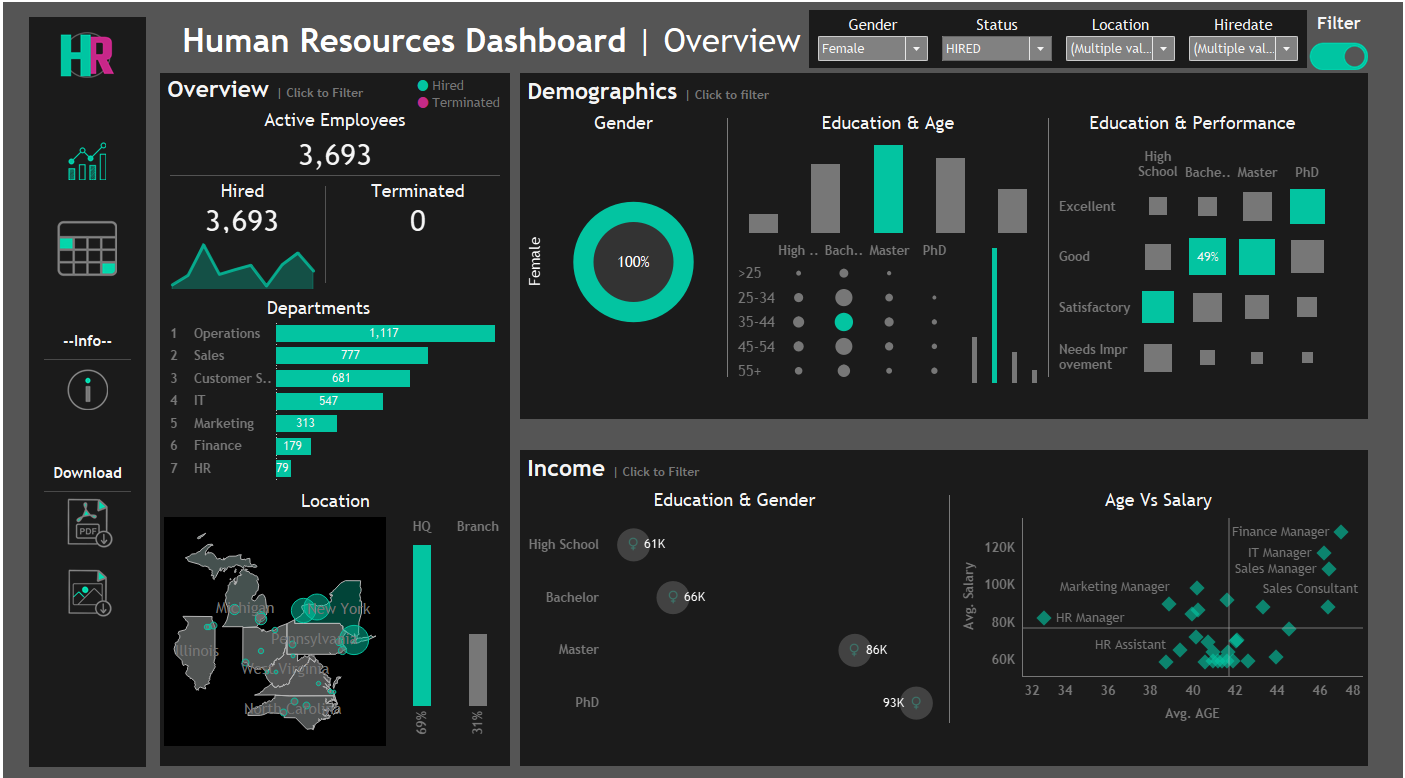

What the dashboard file says about the page in this screenshot:
{"tool":"tableau","page":{"name":"HR | Summary (3)","canvas":[1400,800],"ordinal":3},"visuals":[{"type":"blank","box":[7,7,130,393]},{"type":"text","box":[143,7,676,64]},{"type":"blank","box":[819,7,536,64]},{"type":"text","box":[149,77,352,32]},{"type":"text","box":[509,79,838,35]},{"type":"text","box":[149,109,352,29]},{"type":"text","box":[511,116,207,29]},{"type":"blank","box":[718,116,25,246]},{"type":"text","box":[743,116,261,29]},{"type":"blank","box":[1004,116,25,246]},{"type":"text","box":[1029,116,316,29]},{"type":"worksheet","title":"Active","mark":"Text","box":[149,138,352,41]},{"type":"worksheet","title":"Gender","mark":"Pie","rows":["Gender"],"cols":["Calculation_1937110846429085710","Calculation_1937110846429085710"],"box":[511,145,207,217]},{"type":"worksheet","title":"Age Group","mark":"Bar","rows":["Calculation_1937110846402056192"],"cols":["Calculation_1937110846440509456"],"box":[743,145,261,100]},{"type":"worksheet","title":"Education VS Performance","mark":"Square","rows":["Performance Rating"],"cols":["Education Level"],"box":[1029,145,316,217]},{"type":"blank","box":[149,179,352,25]},{"type":"text","box":[151,206,165,29]},{"type":"blank","box":[316,206,17,113]},{"type":"text","box":[333,206,166,29]},{"type":"worksheet","title":"HIRED","mark":"Text","box":[151,235,165,32]},{"type":"worksheet","title":"Terminated","mark":"Text","box":[333,235,166,32]},{"type":"worksheet","title":"Age VS Education","mark":"Pie","rows":["Calculation_1937110846440509456"],"cols":["Education Level"],"box":[743,245,152.5,117]},{"type":"worksheet","title":"Education Level","mark":"Bar","rows":["Calculation_1937110846402056192"],"cols":["Education Level"],"box":[895.5,245,108.5,117]},{"type":"worksheet","title":"Hired by Years","mark":"Line","rows":["Calculation_1937110846402056192","Calculation_1937110846402056192"],"cols":["Hiredate"],"box":[151,267,165,52]},{"type":"worksheet","title":"Terminated by Years","mark":"Line","rows":["Calculation_1937110846402326529","Calculation_1937110846402326529"],"cols":["Termdate"],"box":[333,267,166,52]},{"type":"blank","box":[149,321,118.7,25]},{"type":"text","box":[267.7,321,114.7,25]},{"type":"blank","box":[382.3,321,118.7,25]},{"type":"worksheet","title":"Departments","mark":"Bar","rows":["Calculation_1937110846415405062","Department"],"cols":["Calculation_1937110846402056192"],"box":[149,346,352,166]},{"type":"blank","box":[7,400,130,393]},{"type":"text","box":[509,415,838,35]},{"type":"text","box":[511,452,410.5,29]},{"type":"blank","box":[921.5,452,25,220]},{"type":"text","box":[946.5,452,398.5,29]},{"type":"worksheet","title":"Education VS Gender Level","mark":"Square","rows":["Education Level"],"cols":["Salary","Salary"],"box":[511,481,410.5,191]},{"type":"worksheet","title":"Age VS Salary","mark":"Shape","rows":["Salary"],"cols":["Calculation_1937110846439919631"],"box":[946.5,481,398.5,191]},{"type":"blank","box":[149,512,120,24]},{"type":"text","box":[269,512,112,24]},{"type":"blank","box":[381,512,120,24]},{"type":"worksheet","title":"MAP STATE","mark":"Automatic","box":[149,536,292,222]},{"type":"worksheet","title":"Location","mark":"Bar","rows":["Calculation_1937110846402056192"],"cols":["Calculation_1937110846422126599","Calculation1"],"box":[441,536,60,222]}]}

Visuals, with their boxes on the page's 1400x800 design canvas (x1, y1, x2, y2). These are canvas units, not pixel positions in the 1405x778 screenshot, which may show the page scaled, cropped or inside an application window:
blank: <region>7, 7, 137, 400</region>
text: <region>143, 7, 819, 71</region>
blank: <region>819, 7, 1355, 71</region>
text: <region>149, 77, 501, 109</region>
text: <region>509, 79, 1347, 114</region>
text: <region>149, 109, 501, 138</region>
text: <region>511, 116, 718, 145</region>
blank: <region>718, 116, 743, 362</region>
text: <region>743, 116, 1004, 145</region>
blank: <region>1004, 116, 1029, 362</region>
text: <region>1029, 116, 1345, 145</region>
"Active" worksheet (Text marks): <region>149, 138, 501, 179</region>
"Gender" worksheet (Pie marks): <region>511, 145, 718, 362</region>
"Age Group" worksheet (Bar marks): <region>743, 145, 1004, 245</region>
"Education VS Performance" worksheet (Square marks): <region>1029, 145, 1345, 362</region>
blank: <region>149, 179, 501, 204</region>
text: <region>151, 206, 316, 235</region>
blank: <region>316, 206, 333, 319</region>
text: <region>333, 206, 499, 235</region>
"HIRED" worksheet (Text marks): <region>151, 235, 316, 267</region>
"Terminated" worksheet (Text marks): <region>333, 235, 499, 267</region>
"Age VS Education" worksheet (Pie marks): <region>743, 245, 896, 362</region>
"Education Level" worksheet (Bar marks): <region>896, 245, 1004, 362</region>
"Hired by Years" worksheet (Line marks): <region>151, 267, 316, 319</region>
"Terminated by Years" worksheet (Line marks): <region>333, 267, 499, 319</region>
blank: <region>149, 321, 268, 346</region>
text: <region>268, 321, 382, 346</region>
blank: <region>382, 321, 501, 346</region>
"Departments" worksheet (Bar marks): <region>149, 346, 501, 512</region>
blank: <region>7, 400, 137, 793</region>
text: <region>509, 415, 1347, 450</region>
text: <region>511, 452, 922, 481</region>
blank: <region>922, 452, 946, 672</region>
text: <region>946, 452, 1345, 481</region>
"Education VS Gender Level" worksheet (Square marks): <region>511, 481, 922, 672</region>
"Age VS Salary" worksheet (Shape marks): <region>946, 481, 1345, 672</region>
blank: <region>149, 512, 269, 536</region>
text: <region>269, 512, 381, 536</region>
blank: <region>381, 512, 501, 536</region>
"MAP STATE" worksheet: <region>149, 536, 441, 758</region>
"Location" worksheet (Bar marks): <region>441, 536, 501, 758</region>
